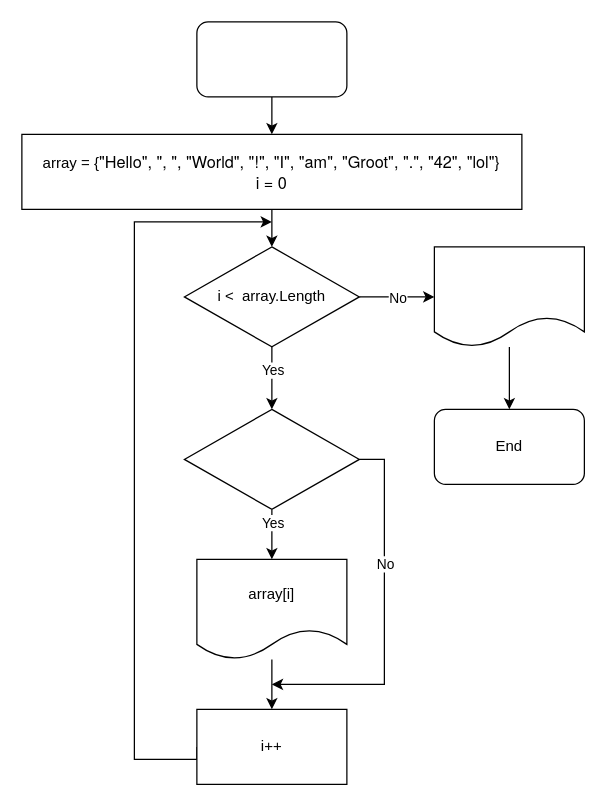
The diagram is 606 pixels wide and 806 high, and some of its shapes have lost their labels. Each missing label, with the centre of its shape:
"array [i] <= 3" goes at (271,458).
"Happy New Year!" goes at (508,296).
"Start" goes at (271,59).
